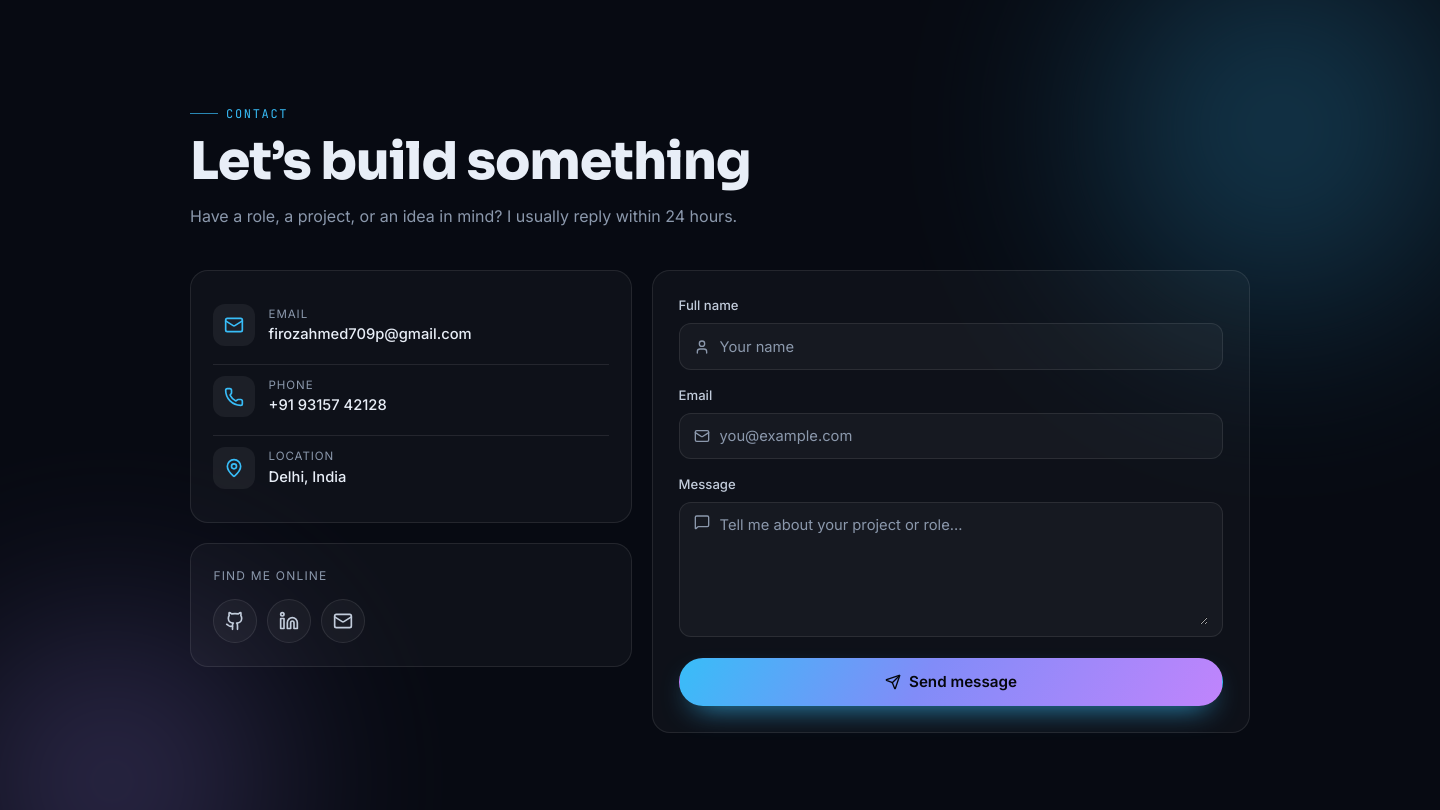
Test: sends a visitor message through the configured EmailJS service and template
This screenshot has width=1440, height=810.
Type "Alex Client" into the field labelled "Full name".
click(964, 347); type("Alex Client")  # box x1=720 y1=336 x2=1208 y2=358
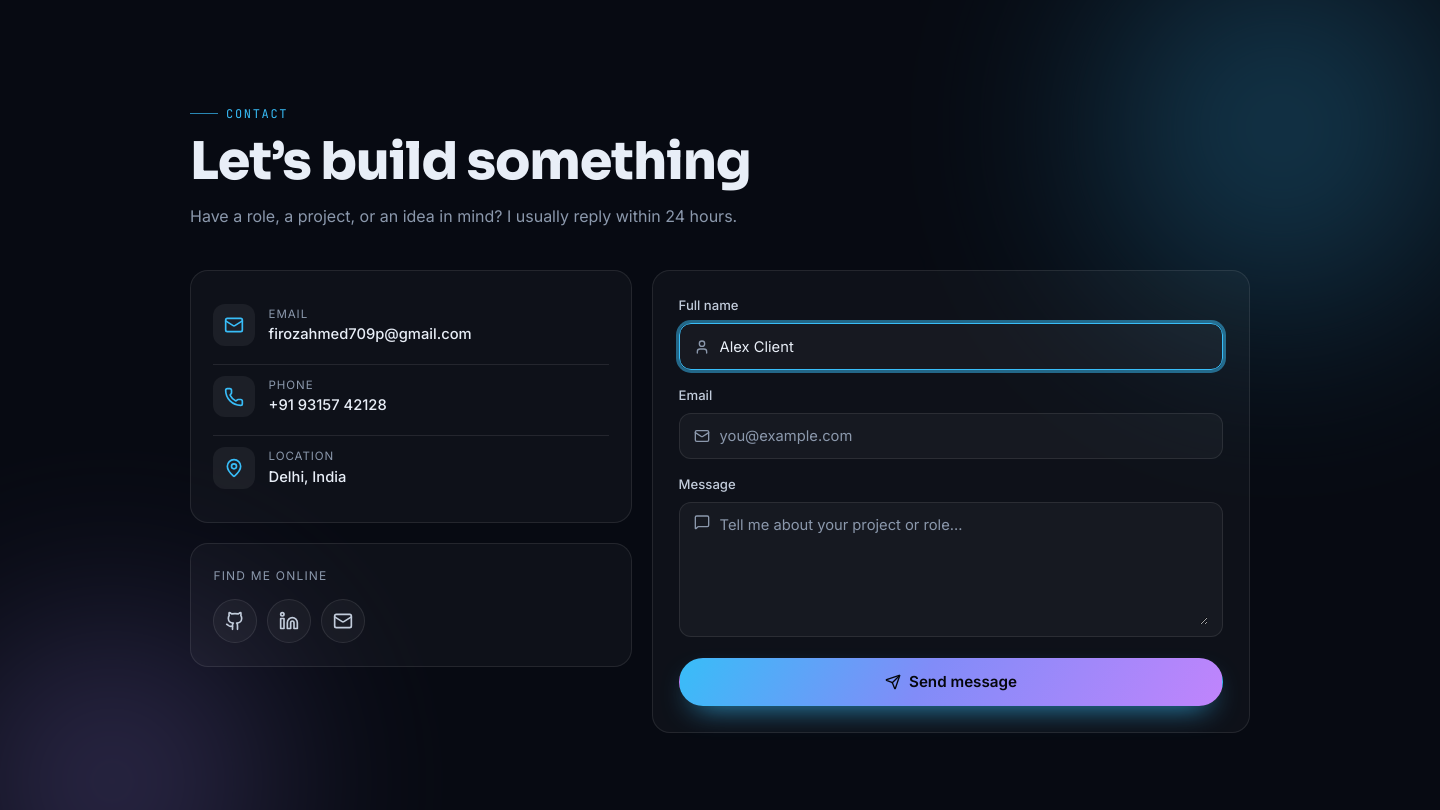
Type "alex@example.com" into the field with placeholder "you@example.com".
click(964, 436); type("alex@example.com")  # box x1=720 y1=425 x2=1208 y2=447
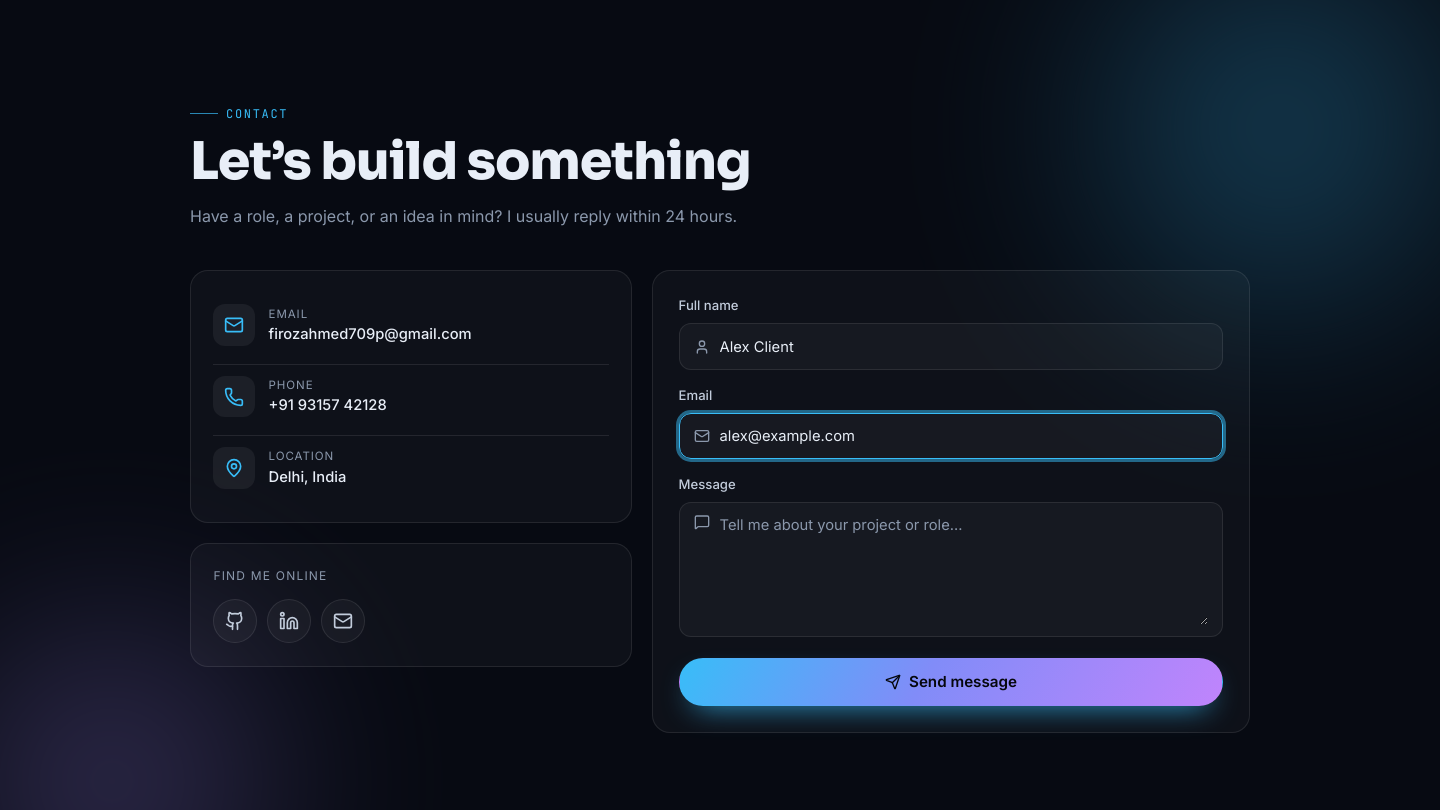
Type "I would like to discuss a project." into the text box labelled "Message".
click(964, 569); type("I would like to discuss a project.")  # box x1=720 y1=514 x2=1208 y2=625
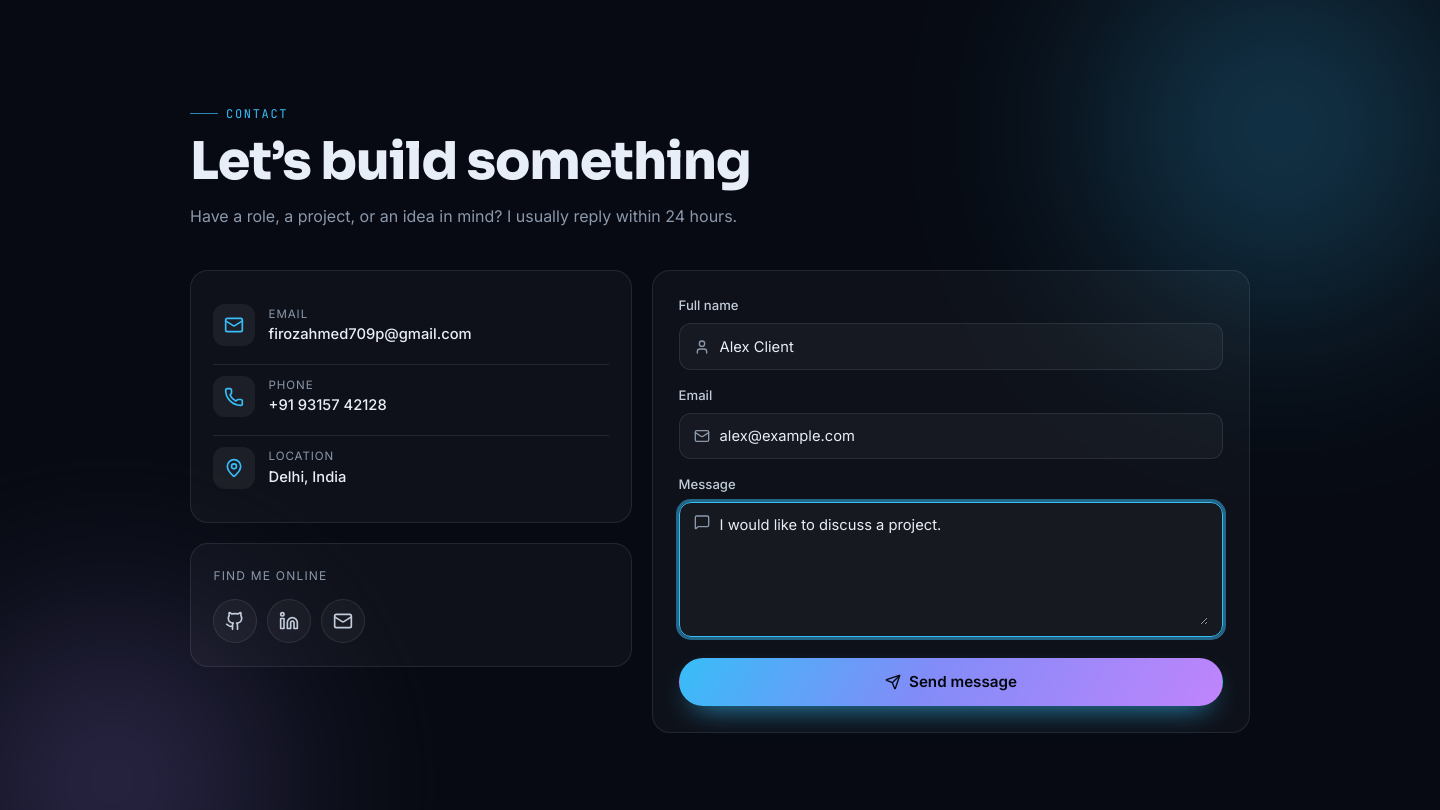
Click the button "Send message".
click(951, 682)  # box x1=679 y1=658 x2=1223 y2=706
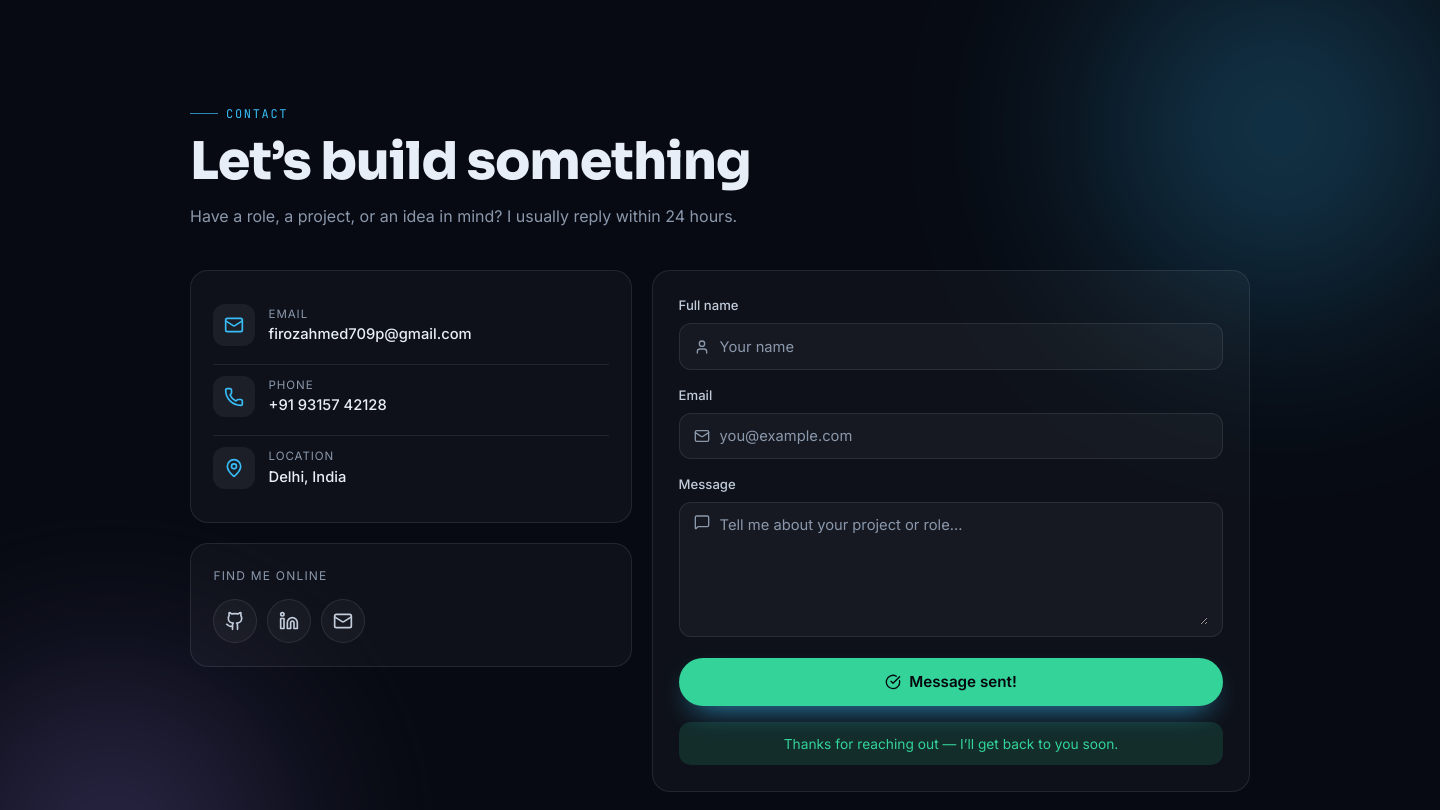
Result: the text "Thanks for reaching out — I’ll get back to you soon." is shown at x1=679 y1=722 x2=1223 y2=765
